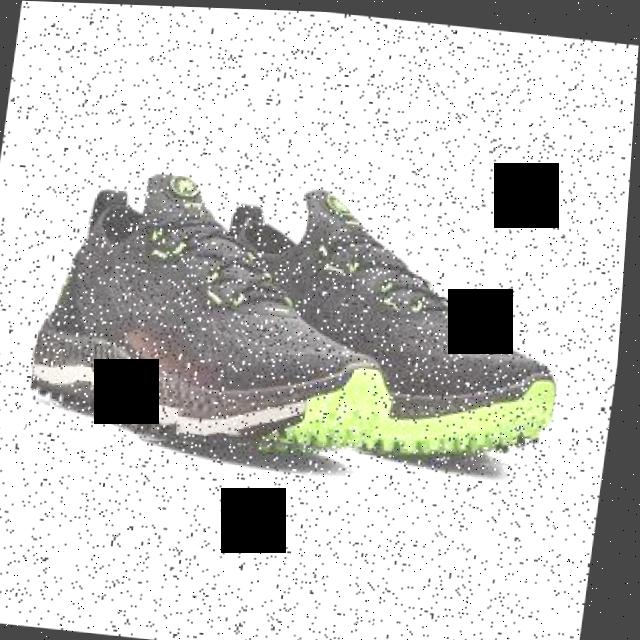shoe: (174, 174, 584, 467), (29, 162, 418, 469)
